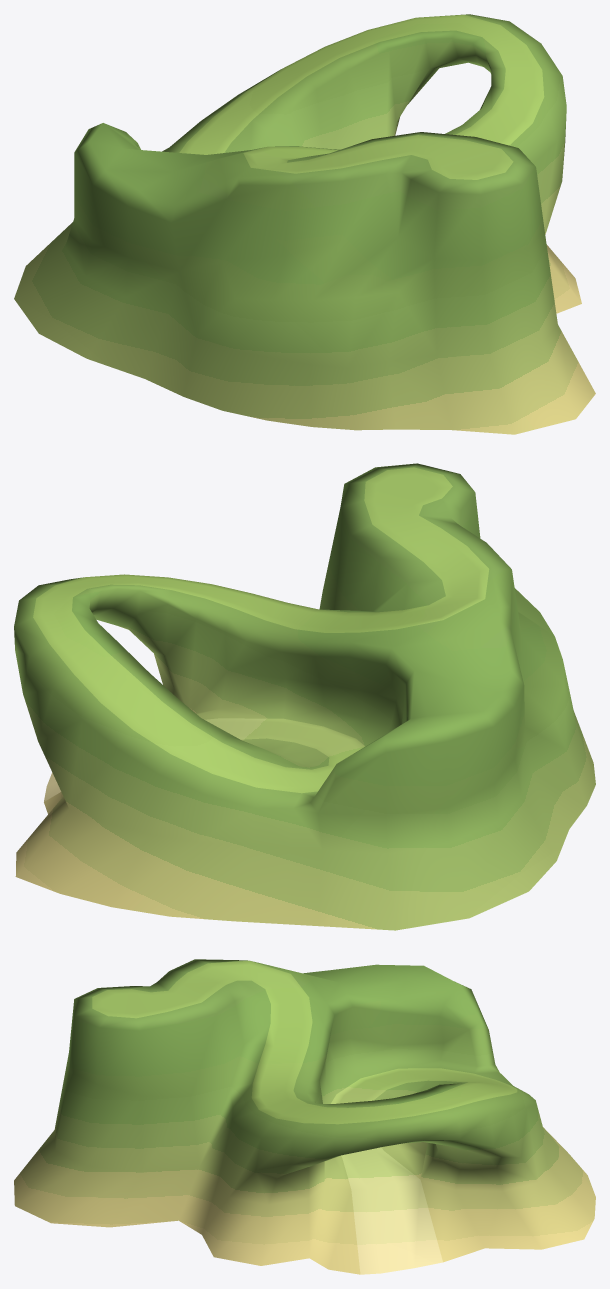
File: model_island_07.fbx
The picture shows the model from 3 angles, top to bottom: view 1: azimuth 30°, elevation 25°; view 2: azimuth 150°, elevation 25°; view 3: azimuth 270°, elevation 25°; orthographic projection. The views are drawn at different scales.
Parts seen in each view (by area): view 1: island_07_geo; view 2: island_07_geo; view 3: island_07_geo.
Part boxes in pixels (x1,y1,x2,y2): island_07_geo: (14, 14, 595, 434); island_07_geo: (14, 463, 595, 930); island_07_geo: (14, 959, 595, 1274).
Size of the model in its own units: 332 by 141 by 398.
